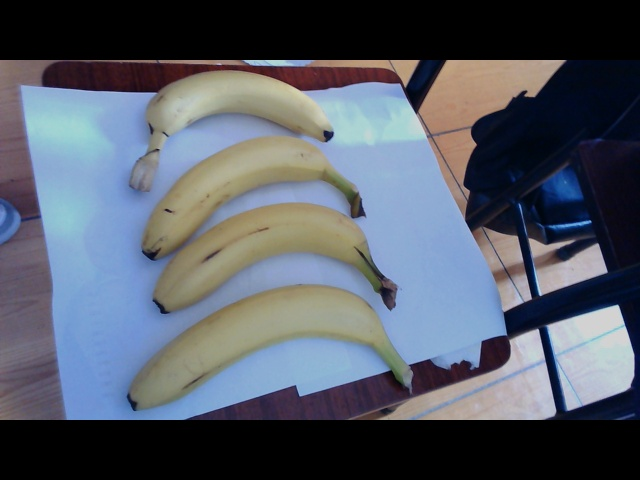banana: (133, 134, 389, 301), (106, 288, 419, 396), (115, 57, 353, 136)
